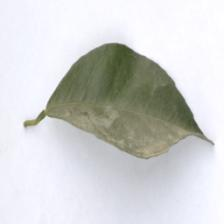healthy: (46, 31, 216, 160)
